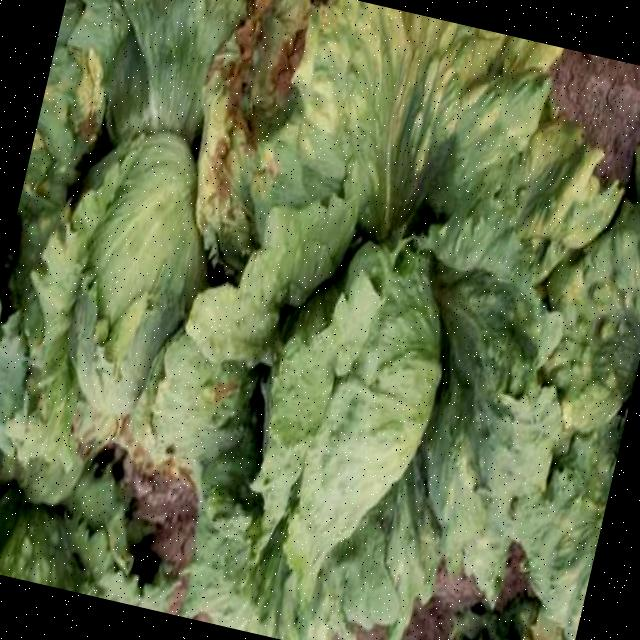Downy_mildew_on_lettuce: (15, 0, 371, 445)
